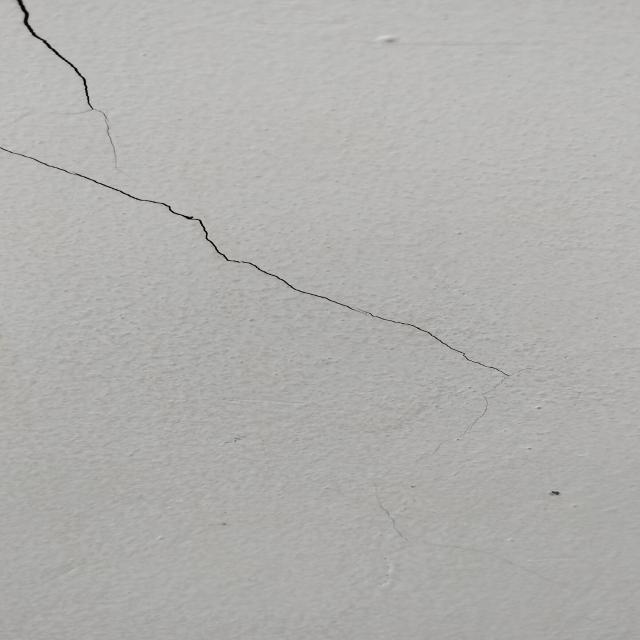Crack: (4, 145, 514, 376)
